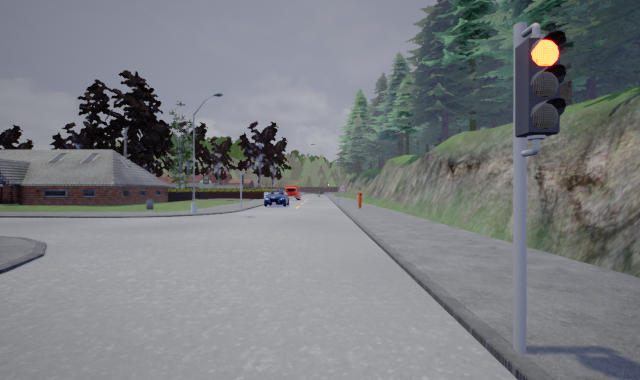pedestrian: (355, 186, 364, 210)
vehicle: (262, 189, 290, 207), (282, 185, 301, 200)
